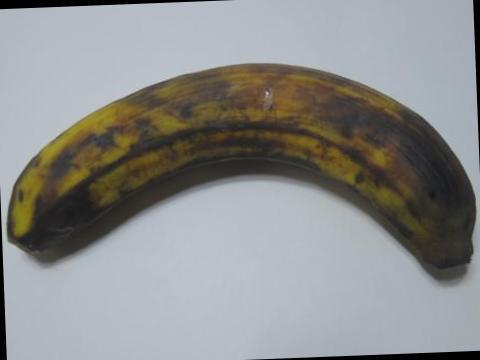overripe: (7, 56, 474, 271)
